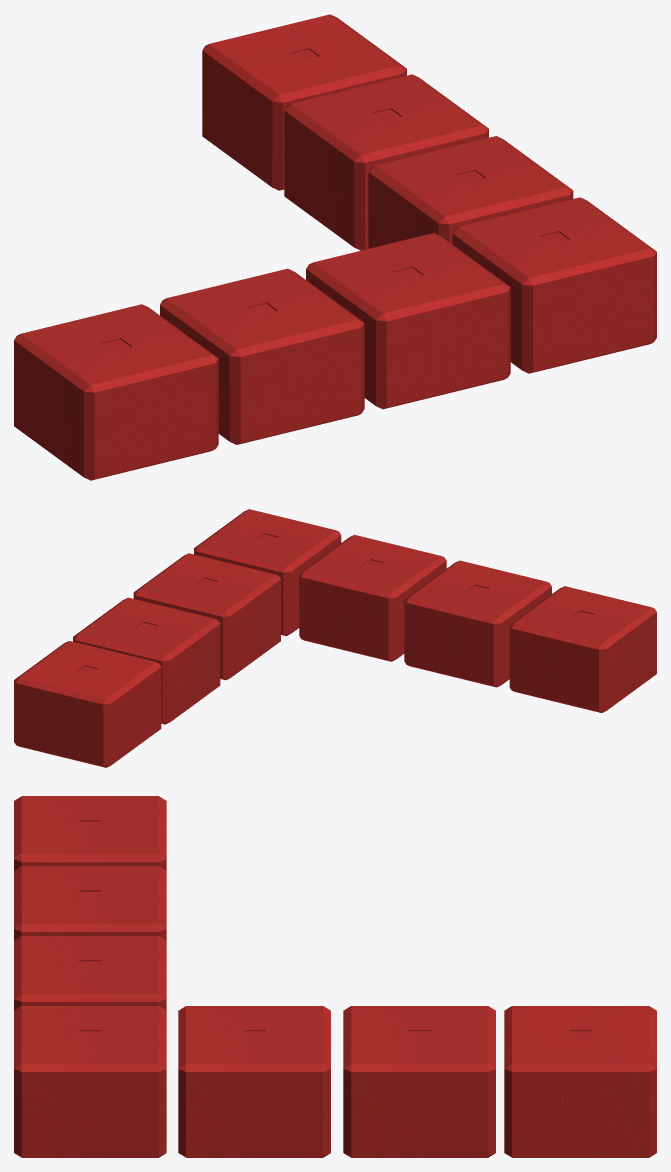
The model's file is sillones.obj.
The picture shows the model from 3 angles, top to bottom: view 1: azimuth 30°, elevation 25°; view 2: azimuth 150°, elevation 25°; view 3: azimuth 270°, elevation 25°; orthographic projection. The views are drawn at different scales.
Visible parts, largest first — view 1: Cubo.009_Cubo.017; view 2: Cubo.009_Cubo.017; view 3: Cubo.009_Cubo.017.
Part boxes in pixels (<box>): Cubo.009_Cubo.017: <box>14,14,656,480</box>; Cubo.009_Cubo.017: <box>14,509,656,767</box>; Cubo.009_Cubo.017: <box>14,796,656,1157</box>.
Size of the model in its own units: 71.69 by 11.45 by 71.02.
Materials: 7 (7 with a texture image).
